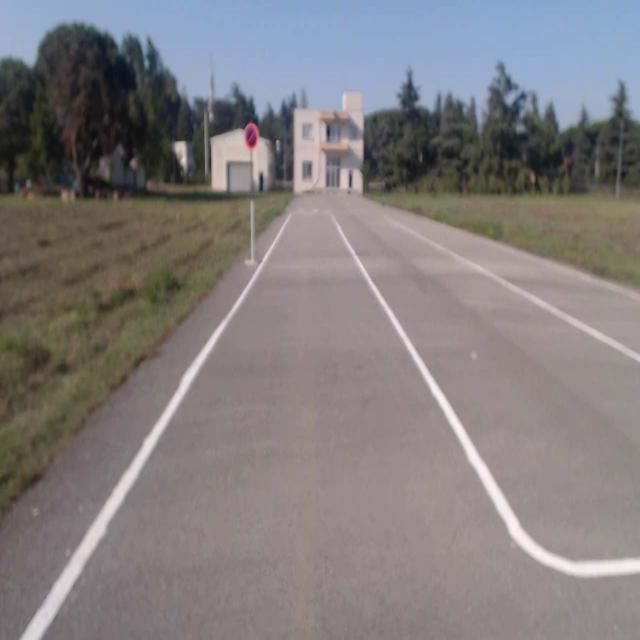parkyasak: (243, 123, 259, 150)
